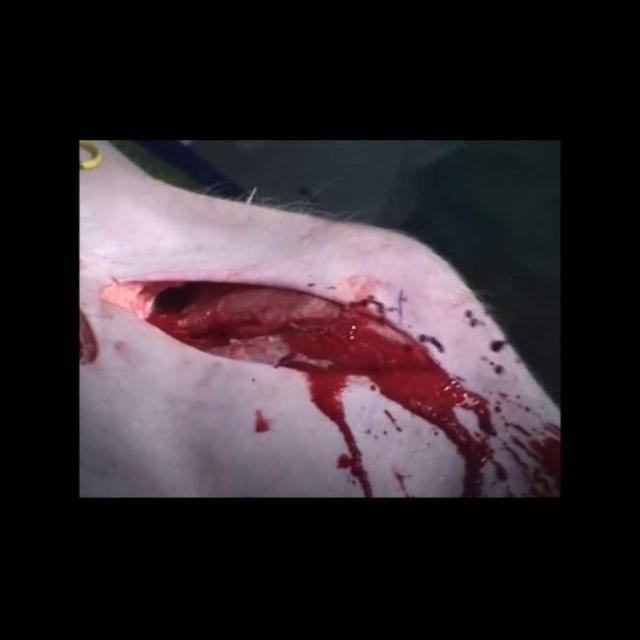blood: (100, 273, 561, 497), (356, 380, 434, 498), (255, 409, 270, 433)
